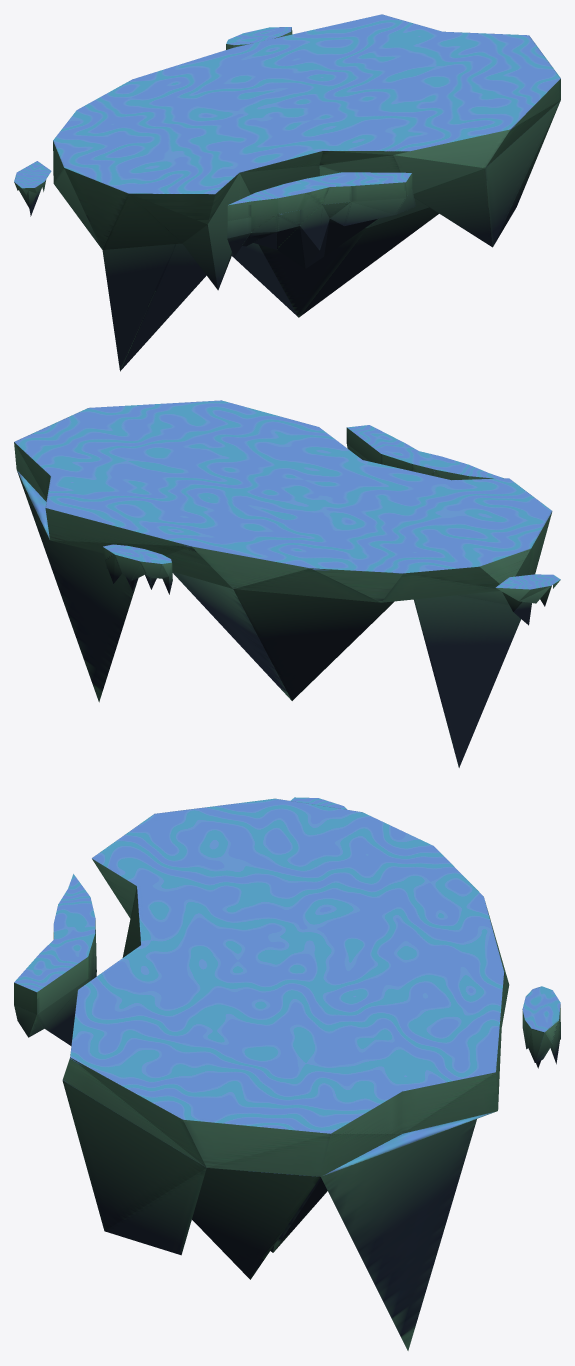
The model's file is GlassBeach.fbx.
3 views of the same model, one above another, from view 1: azimuth 30°, elevation 25°; view 2: azimuth 150°, elevation 25°; view 3: azimuth 270°, elevation 25° (orthographic). The views are drawn at different scales.
Parts seen in each view (by area): view 1: Island1, Island2, Island3, Island4; view 2: Island1, Island2, Island4, Island3; view 3: Island1, Island2, Island4.
Part boxes in pixels (bbox=[...]): Island1: bbox=[53, 14, 560, 371]; Island2: bbox=[227, 172, 415, 268]; Island3: bbox=[14, 161, 51, 216]; Island4: bbox=[226, 27, 292, 49]; Island1: bbox=[14, 400, 552, 767]; Island2: bbox=[346, 425, 503, 480]; Island4: bbox=[102, 544, 172, 594]; Island3: bbox=[495, 574, 560, 625]; Island1: bbox=[62, 798, 509, 1350]; Island2: bbox=[14, 874, 96, 1045]; Island4: bbox=[522, 986, 560, 1068].
Size of the model in its own units: 9208 by 3791 by 5902.
4 materials, 4 textured.
